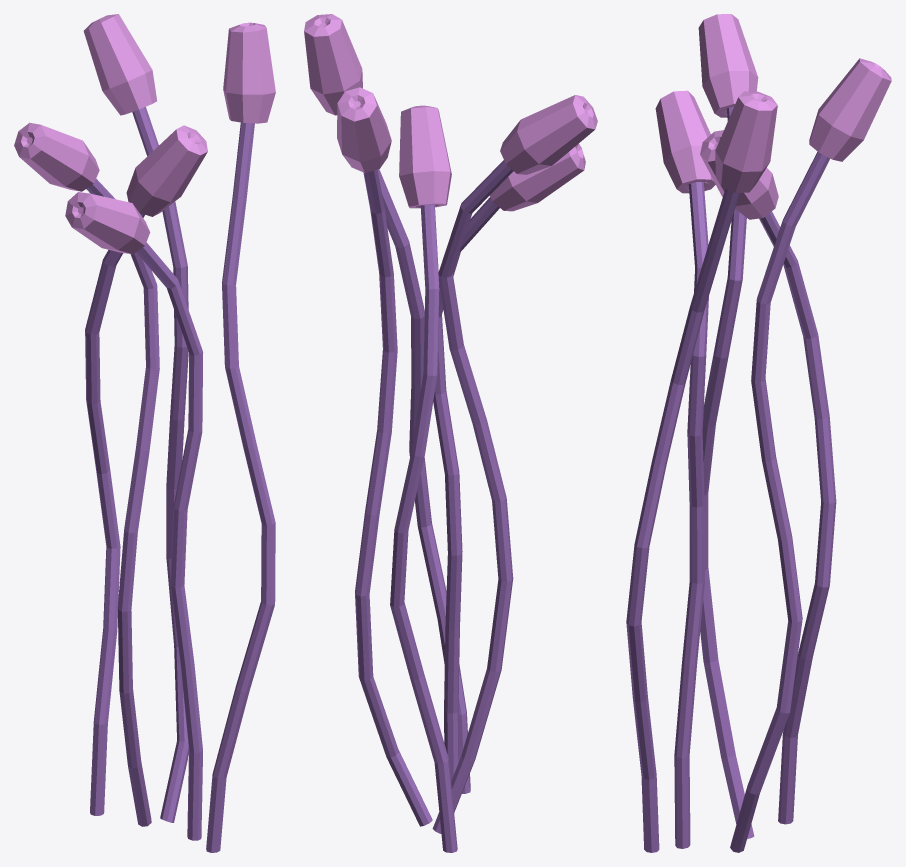
The model's file is Gras_01_Var_05.fbx.
3 views of the same model, side by side, from view 1: azimuth 30°, elevation 25°; view 2: azimuth 150°, elevation 25°; view 3: azimuth 270°, elevation 25° (orthographic). The views are drawn at different scales.
Visible parts, largest first — view 1: Gras_01_Var_05; view 2: Gras_01_Var_05; view 3: Gras_01_Var_05.
Part boxes in pixels (x1,y1,x2,y2): Gras_01_Var_05: (14,14,275,852); Gras_01_Var_05: (304,14,597,852); Gras_01_Var_05: (626,14,891,852).
Bounding box in the file's own units: 0.1491 × 0.4963 × 0.1784.
